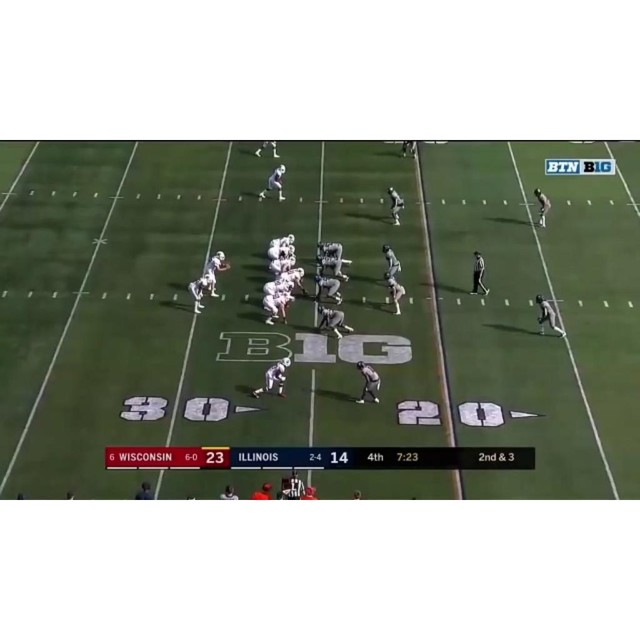american-football-player: (251, 357, 292, 399), (316, 304, 354, 339), (203, 249, 229, 299), (535, 294, 565, 337), (187, 273, 214, 314), (356, 360, 381, 404), (263, 291, 294, 326), (313, 273, 344, 306), (259, 165, 286, 202), (384, 273, 406, 316), (316, 255, 351, 282), (316, 242, 351, 268), (280, 267, 307, 296), (533, 188, 552, 228), (381, 245, 402, 280), (386, 186, 404, 226), (268, 255, 296, 277), (263, 279, 292, 297)
referee: (469, 250, 488, 294)
